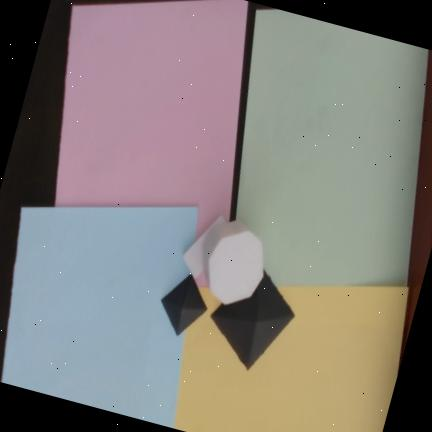Paralelepipedo: (182, 215, 226, 279)
Piramide: (210, 268, 295, 370), (160, 273, 207, 335)
Prisma_hexagonal: (201, 220, 263, 305)
